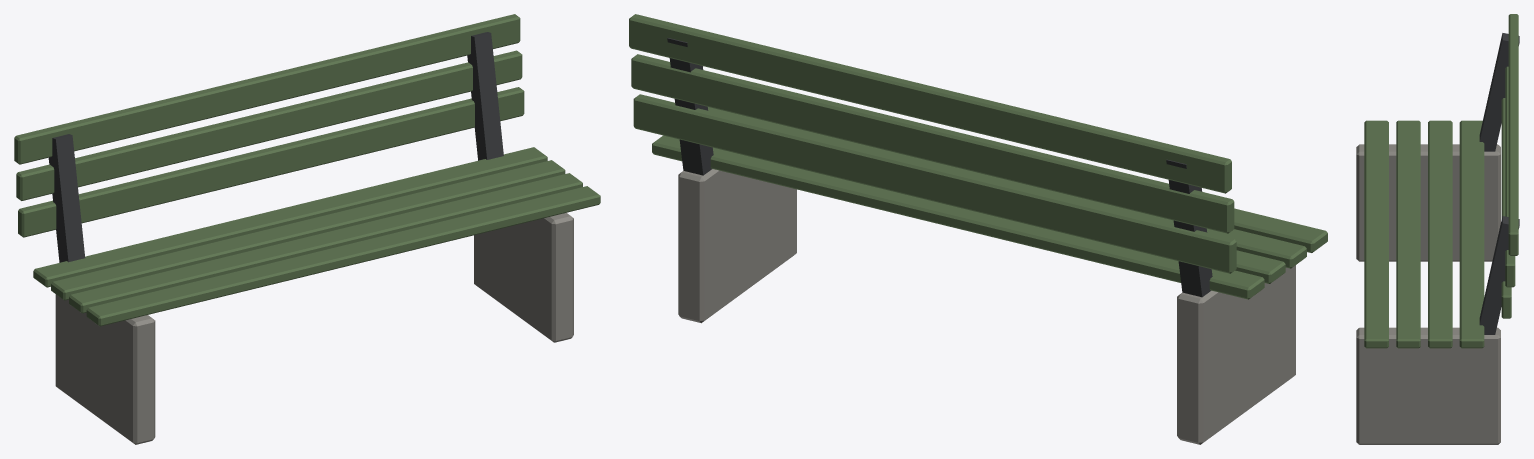
The model's file is bench.glb.
The picture shows the model from 3 angles, left to right: view 1: azimuth 30°, elevation 25°; view 2: azimuth 150°, elevation 25°; view 3: azimuth 270°, elevation 25°; orthographic projection. The views are drawn at different scales.
Visible parts, largest first — view 1: Bench; view 2: Bench; view 3: Bench.
Boxes of the visible parts, box(x1,y1,x2,y2) form: Bench: box(14, 14, 600, 444); Bench: box(629, 14, 1327, 444); Bench: box(1356, 14, 1519, 444).
Size of the model in its own units: 1.8 by 0.865 by 0.5641.
